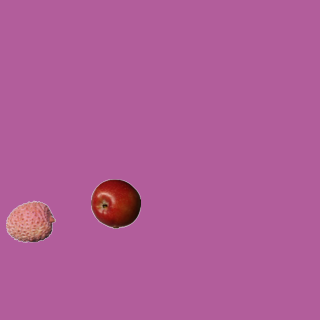Apple Braeburn: (90, 178, 140, 228)
Lychee: (5, 196, 55, 246)
